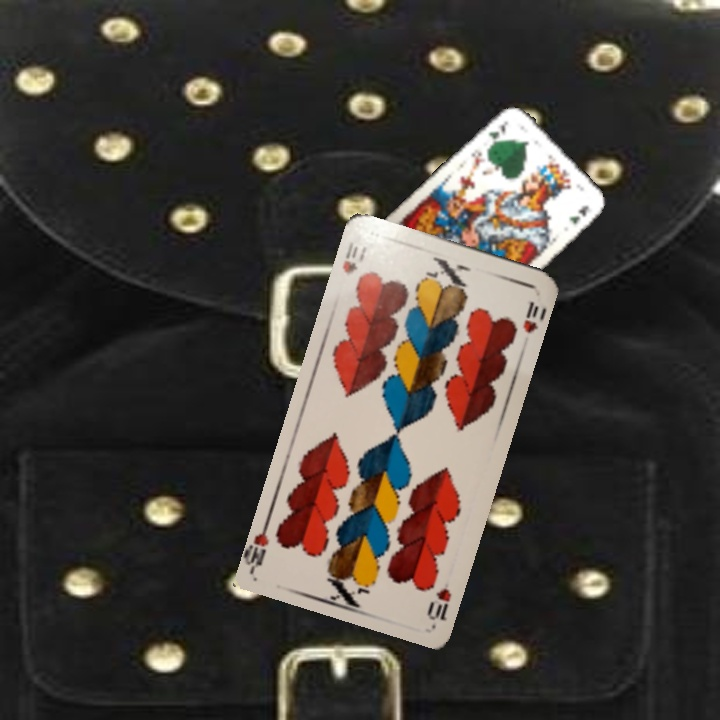GK: (484, 117, 512, 150)
H10: (338, 237, 369, 277), (423, 584, 454, 624)
